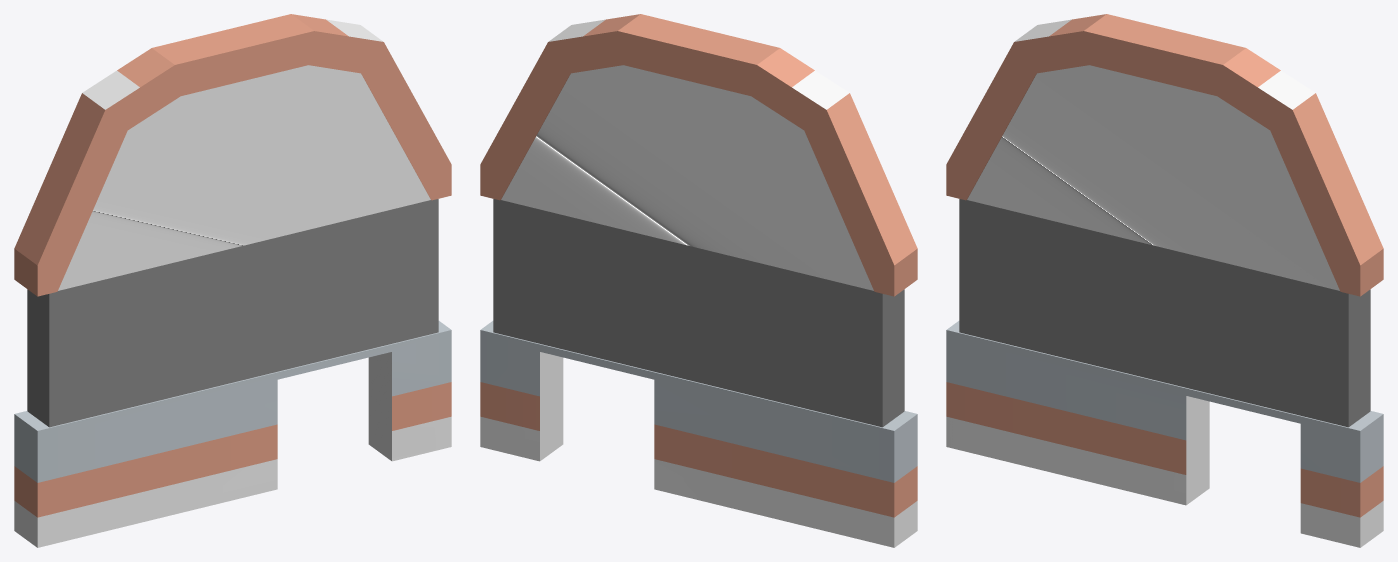
The model's file is holeInWall.glb.
The picture shows the model from 3 angles, left to right: view 1: azimuth 30°, elevation 25°; view 2: azimuth 150°, elevation 25°; view 3: azimuth 330°, elevation 25°; orthographic projection.
Visible parts, largest first — view 1: buildingCorridor; view 2: buildingCorridor; view 3: buildingCorridor.
Boxes of the visible parts, box(x1,y1,x2,y2) form: buildingCorridor: box(14, 14, 451, 547); buildingCorridor: box(480, 14, 917, 547); buildingCorridor: box(946, 14, 1383, 547).
Bounding box in the file's own units: 10 × 10.37 × 0.973.
